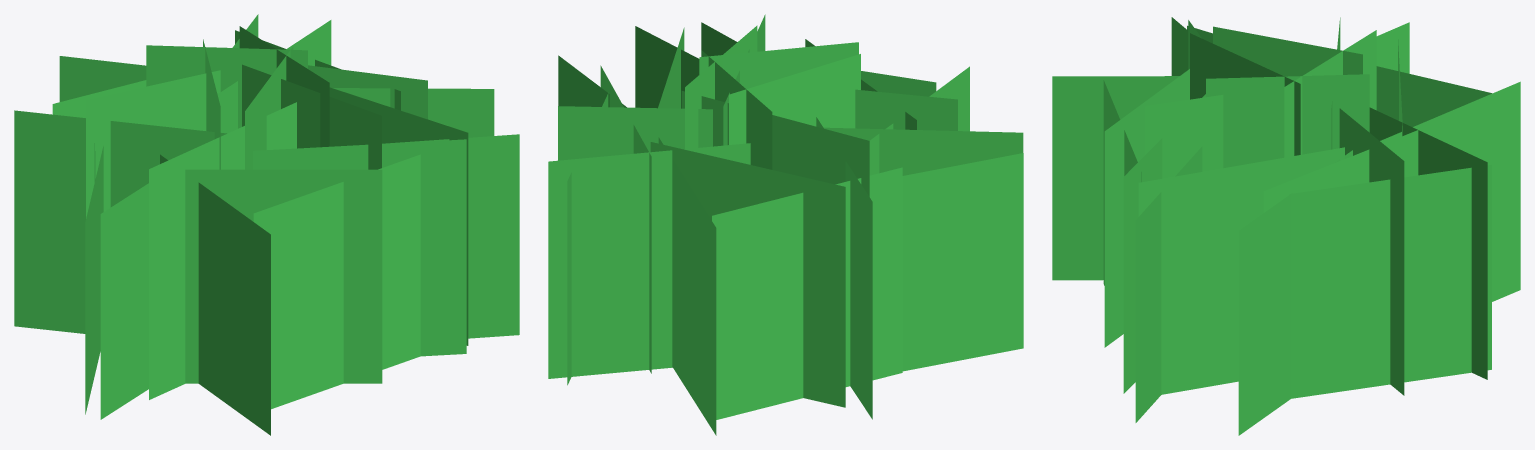
File: sn_grass2.fbx
The picture shows the model from 3 angles, left to right: view 1: azimuth 30°, elevation 25°; view 2: azimuth 150°, elevation 25°; view 3: azimuth 270°, elevation 25°; orthographic projection.
Parts seen in each view (by area): view 1: sn_grass2; view 2: sn_grass2; view 3: sn_grass2.
Part boxes in pixels (x1,y1,x2,y2): sn_grass2: [14, 14, 519, 435]; sn_grass2: [548, 14, 1023, 435]; sn_grass2: [1052, 17, 1520, 435].
Size of the model in its own units: 54.15 by 31.52 by 49.89.
